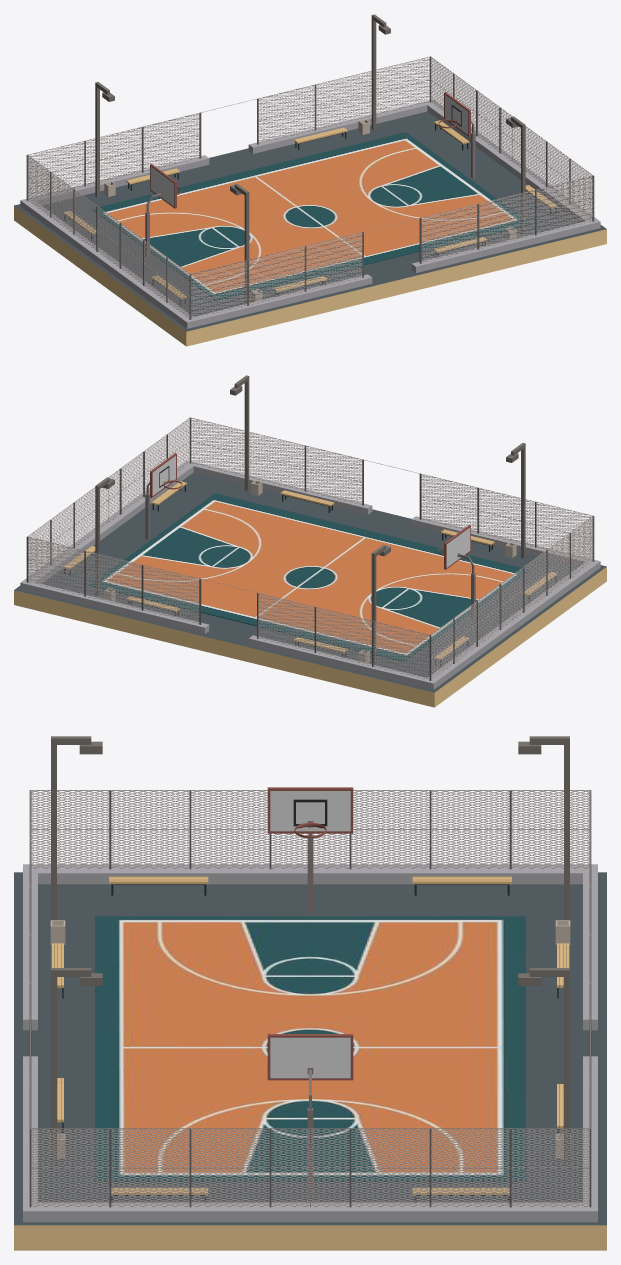
The model's file is BBallCourt.fbx.
3 renders of one model, top to bottom at view 1: azimuth 30°, elevation 25°; view 2: azimuth 150°, elevation 25°; view 3: azimuth 270°, elevation 25°, orthographic. The views are drawn at different scales.
Parts seen in each view (by area): view 1: Base, Court, Light Pillars, Benches, Basketball_Stand, Mesh_Bars, Dust_Bin; view 2: Base, Court, Light Pillars, Benches, Basketball_Stand, Mesh_Bars, Dust_Bin; view 3: Base, Court, Basketball_Stand, Light Pillars, Benches, Mesh_Bars, Dust_Bin.
Part boxes in pixels (box(x1,y1,x2,y2)): Base: box(14, 57, 606, 346); Court: box(91, 132, 530, 301); Light Pillars: box(95, 14, 525, 303); Benches: box(63, 120, 556, 305); Basketball_Stand: box(145, 92, 475, 257); Mesh_Bars: box(27, 56, 593, 296); Dust_Bin: box(104, 119, 516, 302); Base: box(14, 418, 606, 707); Court: box(90, 493, 529, 662); Light Pillars: box(95, 375, 525, 664); Benches: box(64, 481, 557, 666); Basketball_Stand: box(145, 453, 475, 618); Mesh_Bars: box(27, 417, 593, 657); Dust_Bin: box(104, 480, 516, 663); Base: box(14, 790, 606, 1250); Court: box(95, 916, 525, 1181); Basketball_Stand: box(267, 787, 353, 1186); Light Pillars: box(51, 736, 569, 1165); Benches: box(51, 876, 569, 1202); Mesh_Bars: box(30, 790, 590, 1168); Dust_Bin: box(50, 920, 570, 1158).
Size of the model in its own units: 579 by 169 by 411.
Materials: 13 (1 with a texture image).
